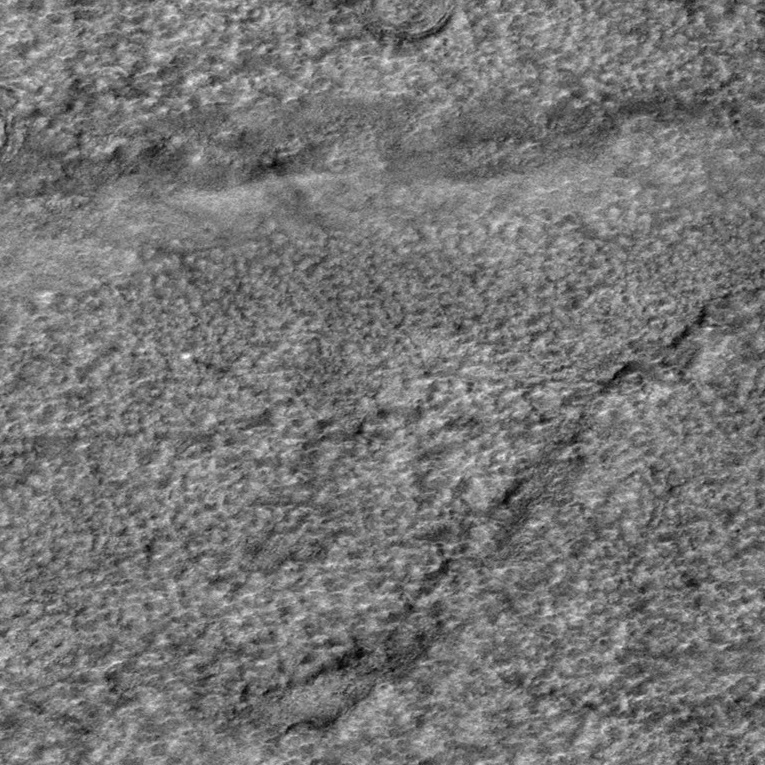dust_devil: (179, 351, 231, 378)
